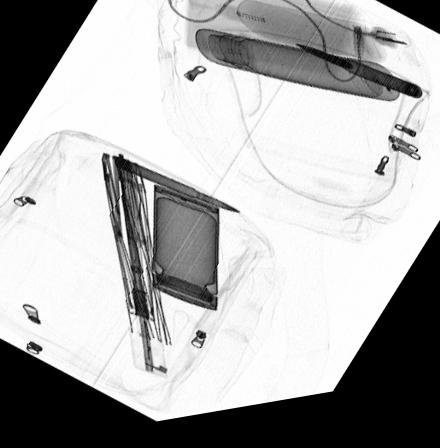Bullet: (112, 159, 240, 221), (290, 52, 421, 112)
